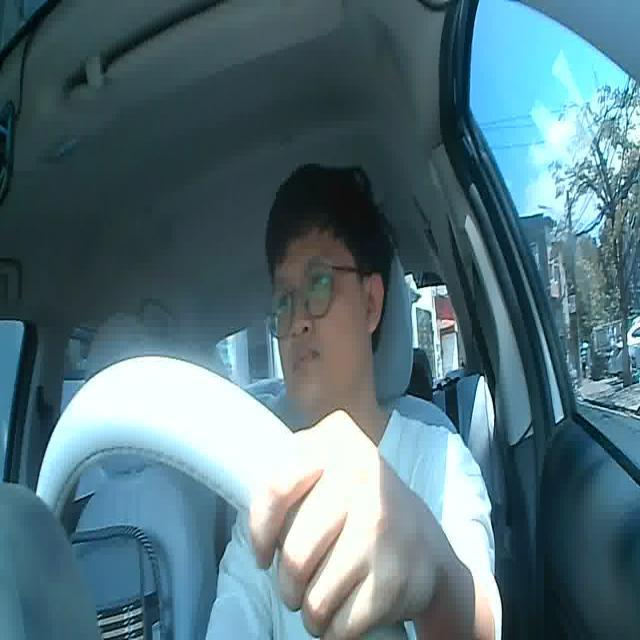Attentive: (267, 162, 393, 412)
Eye-Open: (308, 268, 332, 292), (276, 290, 299, 312)
Normal: (293, 342, 324, 374)
